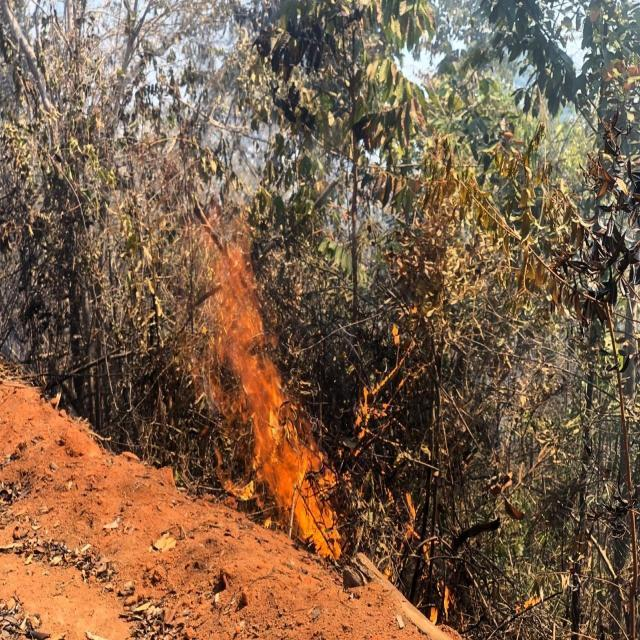Fire: (189, 198, 343, 564)
